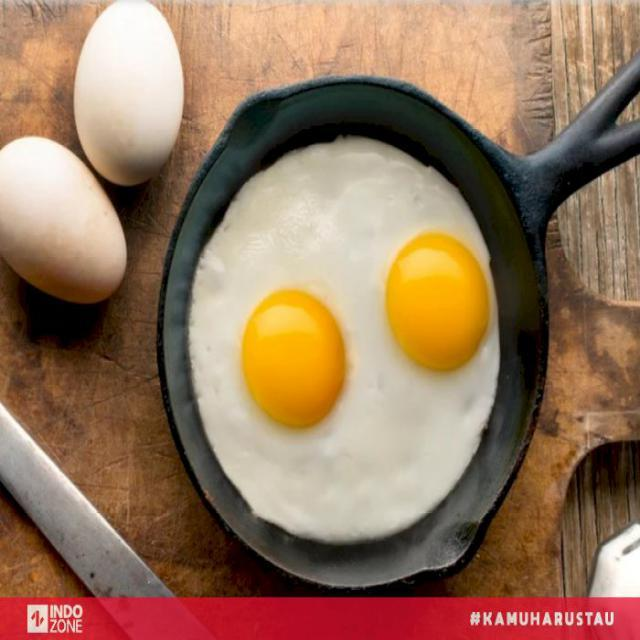Fried Egg: (192, 145, 499, 544)
